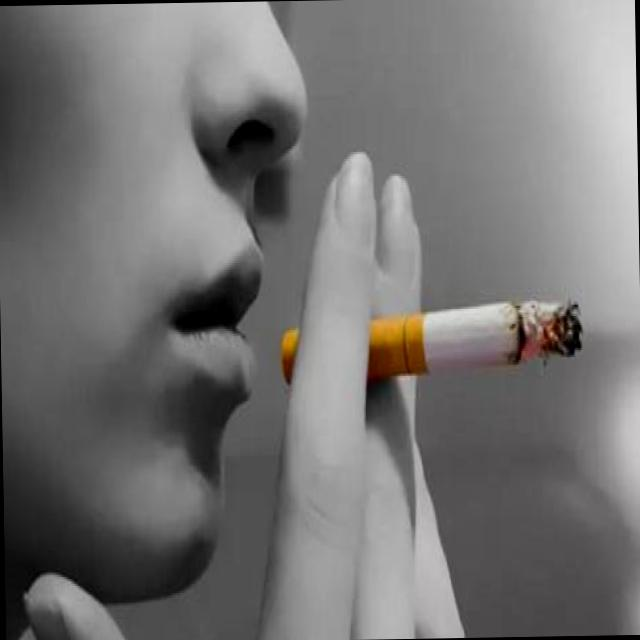smoke: (280, 306, 586, 378)
